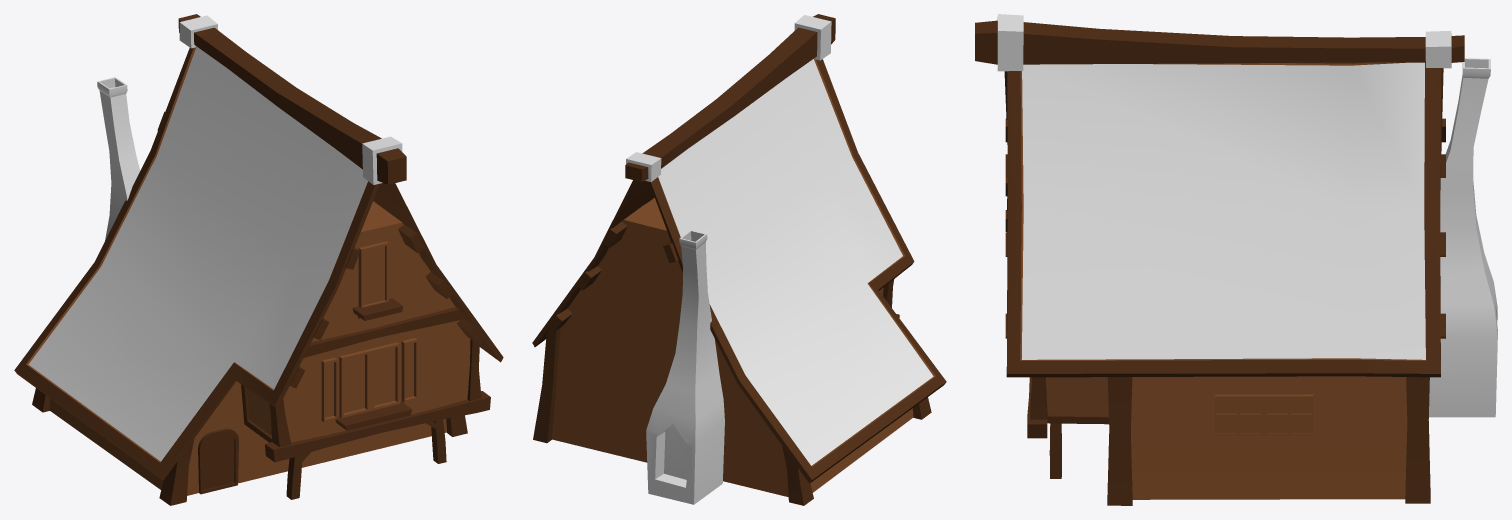
The picture shows the model from 3 angles, left to right: view 1: azimuth 30°, elevation 25°; view 2: azimuth 150°, elevation 25°; view 3: azimuth 270°, elevation 25°; orthographic projection. The views are drawn at different scales.
Parts seen in each view (by area): view 1: Cube.001; view 2: Cube.001; view 3: Cube.001.
Boxes of the visible parts, box(x1,y1,x2,y2) form: Cube.001: box(14, 14, 503, 505); Cube.001: box(532, 14, 946, 505); Cube.001: box(975, 14, 1497, 505).
Bounding box in the file's own units: 448 × 485 × 558.
